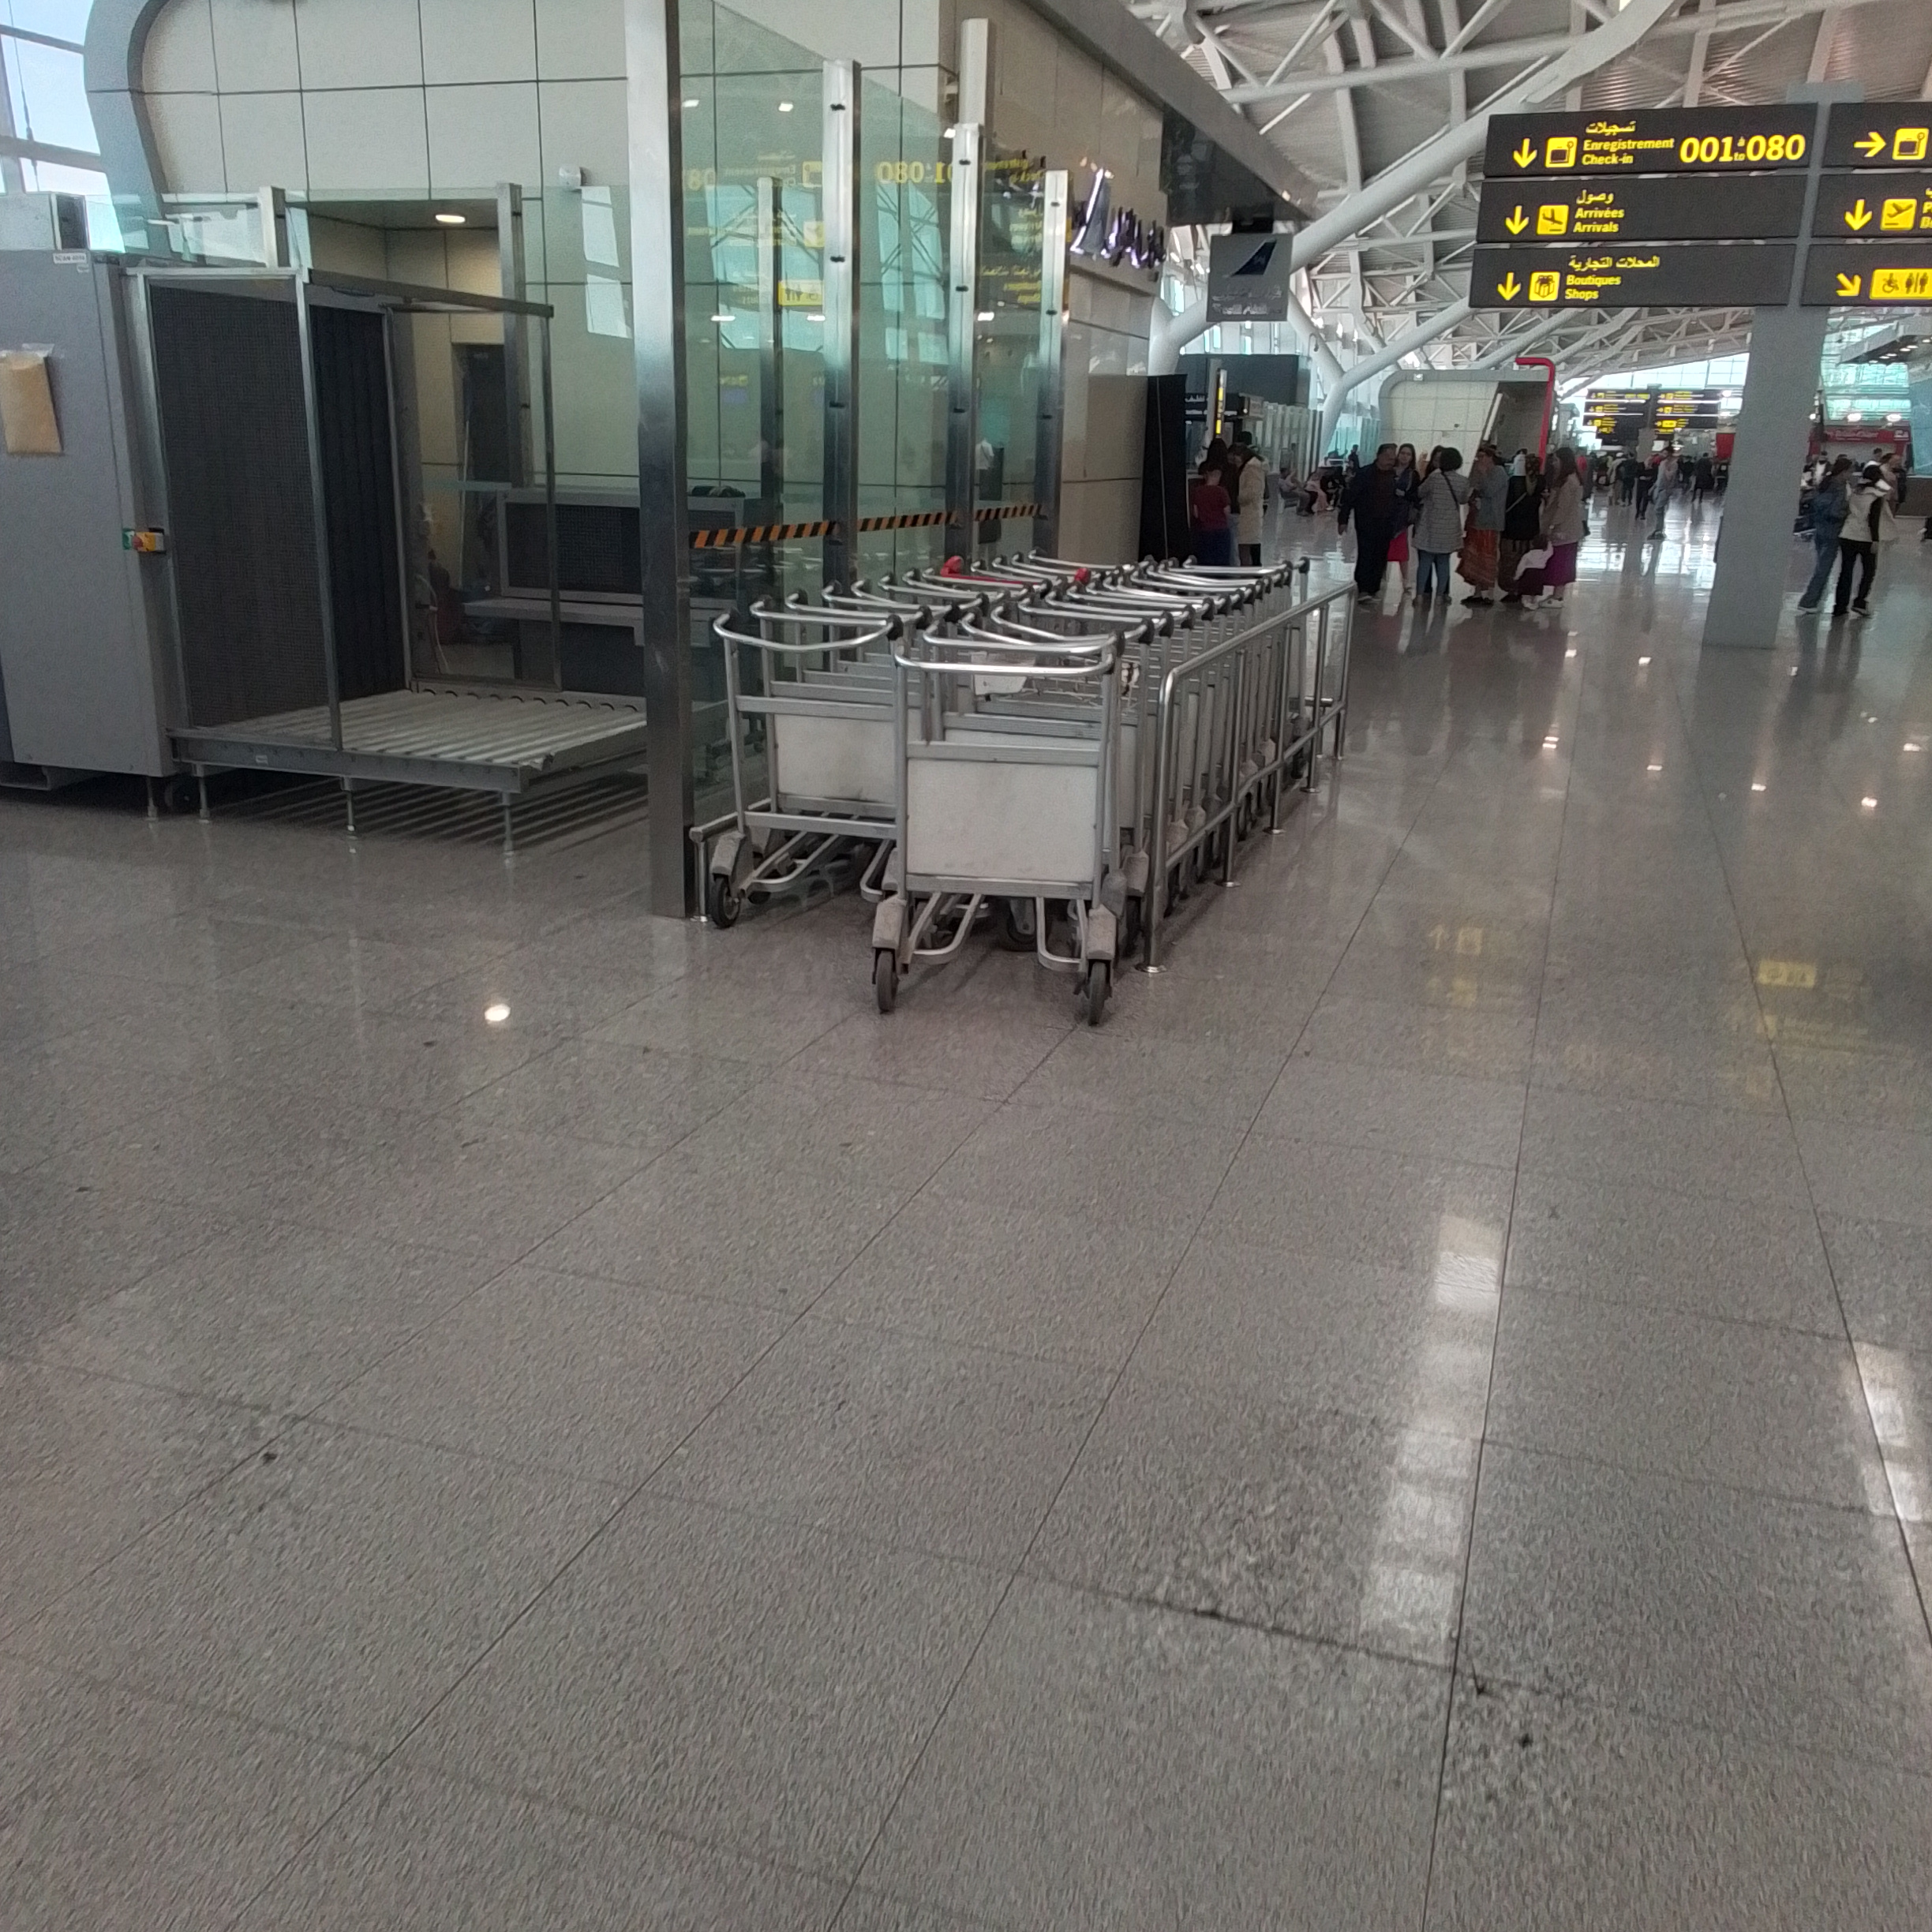airport-trolley: (881, 635, 1129, 1037), (695, 616, 908, 938)
